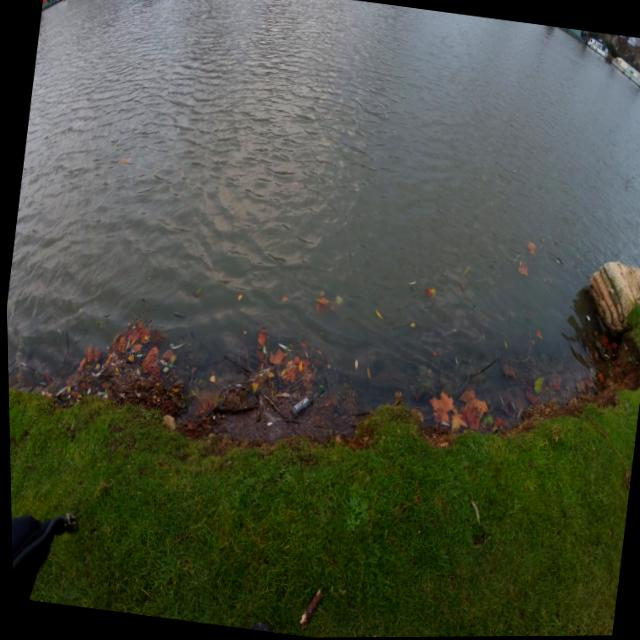Bottle-Glass: (284, 382, 326, 425)
